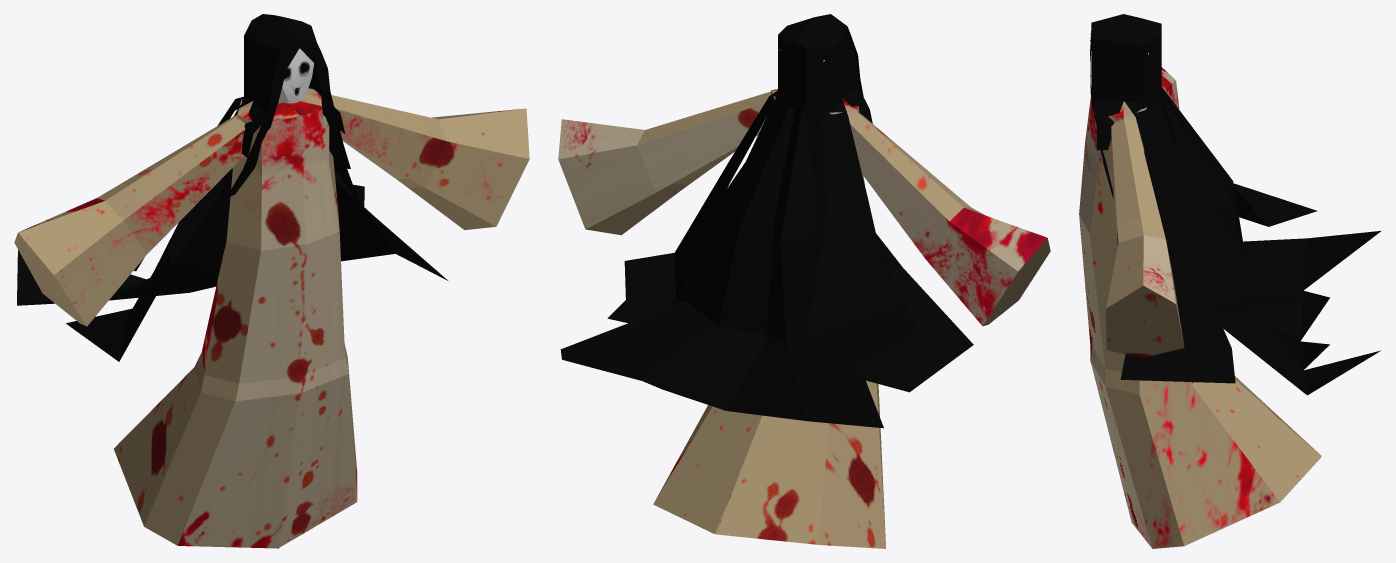
The model's file is Setann.fbx.
3 views of the same model, side by side, from view 1: azimuth 30°, elevation 25°; view 2: azimuth 150°, elevation 25°; view 3: azimuth 270°, elevation 25° (orthographic). The views are drawn at different scales.
Parts seen in each view (by area): view 1: Cube, Plane, Cube.001; view 2: Plane, Cube; view 3: Cube, Plane.
Boxes of the visible parts, bbox=[...] form: Cube: bbox=[14, 88, 529, 548]; Plane: bbox=[17, 14, 447, 361]; Cube.001: bbox=[279, 48, 313, 103]; Plane: bbox=[560, 14, 973, 428]; Cube: bbox=[558, 89, 1050, 548]; Cube: bbox=[1079, 67, 1321, 548]; Plane: bbox=[1090, 14, 1381, 395].
Bounding box in the file's own units: 182 × 183 × 98.63.
